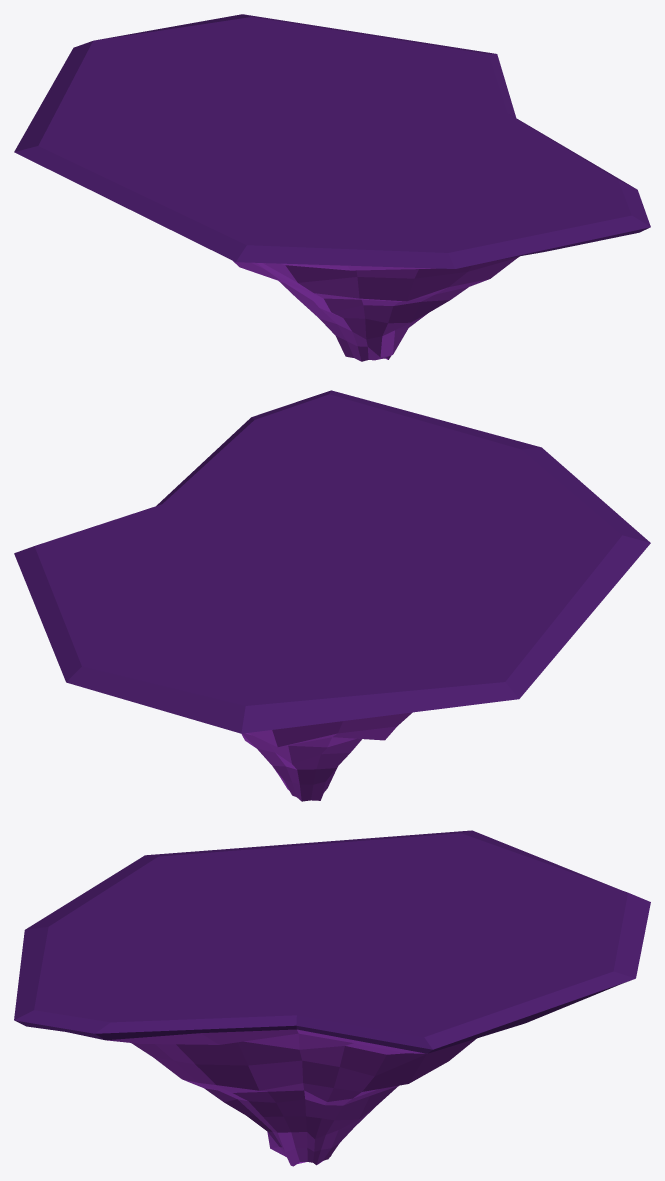
File: FloatingIsland4.fbx
The picture shows the model from 3 angles, top to bottom: view 1: azimuth 30°, elevation 25°; view 2: azimuth 150°, elevation 25°; view 3: azimuth 270°, elevation 25°; orthographic projection. The views are drawn at different scales.
Parts seen in each view (by area): view 1: Cube.015; view 2: Cube.015; view 3: Cube.015.
Part boxes in pixels (x1,y1,x2,y2): Cube.015: [14, 14, 650, 361]; Cube.015: [14, 390, 650, 801]; Cube.015: [14, 830, 650, 1166].
Bounding box in the file's own units: 1253 × 575 × 1538.
